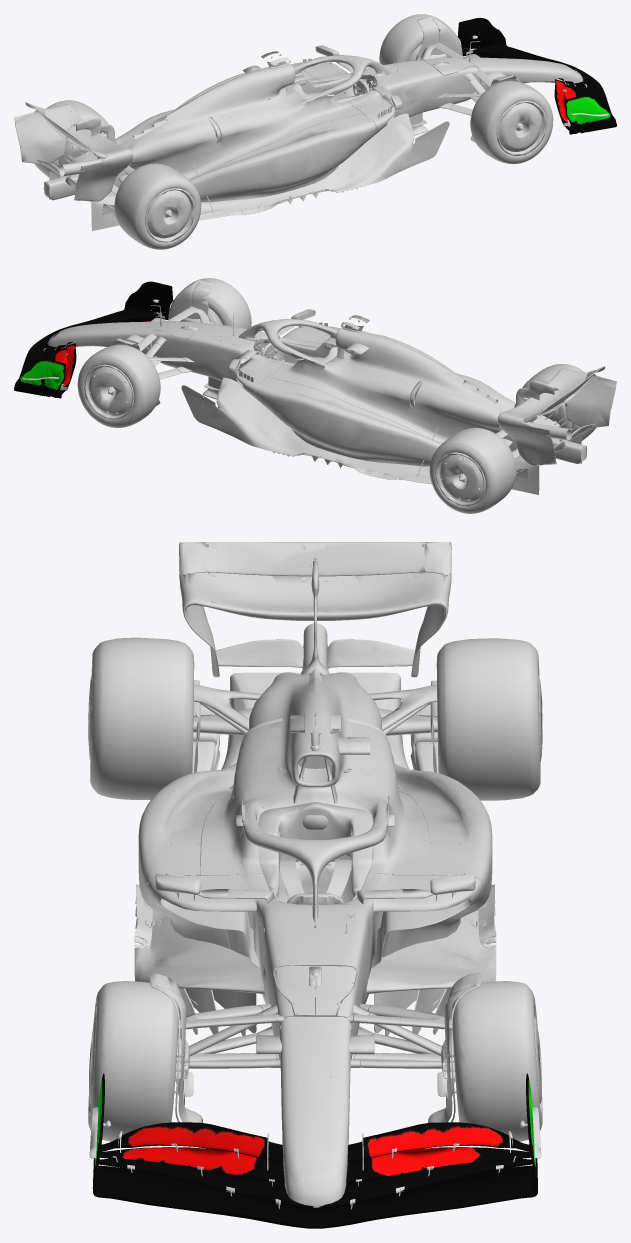
The model's file is car-2022-2025.glb.
3 views of the same model, one above another, from view 1: azimuth 30°, elevation 25°; view 2: azimuth 150°, elevation 25°; view 3: azimuth 270°, elevation 25° (orthographic). The views are drawn at different scales.
Visible parts, largest first — view 1: sidepods|P, wheels|rubber, power-unit|P, cockpit|P, nose|P, rear-wing|P, front-wing|livery, sidepods|carbon, wheels|carbon, nose|carbon2, floor|carbon, wheels|metal (+8 smaller); view 2: sidepods|P, wheels|rubber, power-unit|P, nose|P, cockpit|P, rear-wing|P, front-wing|livery, sidepods|carbon, nose|carbon2, wheels|carbon, floor|carbon, nose|carbon (+7 smaller); view 3: wheels|rubber, front-wing|livery, sidepods|P, cockpit|P, nose|P, rear-wing|P, wheels|carbon, sidepods|carbon, power-unit|P, rear-wing|carbon, nose|carbon, floor|carbon (+7 smaller).
Part boxes in pixels (left/top/right/bottom): sidepods|P: left=175, top=45, right=405, bottom=202; wheels|rubber: left=34, top=14, right=553, bottom=249; power-unit|P: left=115, top=69, right=278, bottom=167; cockpit|P: left=262, top=55, right=403, bottom=126; nose|P: left=132, top=57, right=577, bottom=169; rear-wing|P: left=14, top=102, right=133, bottom=201; front-wing|livery: left=457, top=17, right=616, bottom=134; sidepods|carbon: left=201, top=46, right=428, bottom=206; wheels|carbon: left=49, top=19, right=520, bottom=231; nose|carbon2: left=146, top=100, right=546, bottom=242; floor|carbon: left=51, top=125, right=436, bottom=220; wheels|metal: left=147, top=103, right=541, bottom=238; sidepods|P: left=225, top=309, right=454, bottom=466; wheels|rubber: left=77, top=278, right=595, bottom=513; power-unit|P: left=352, top=333, right=515, bottom=431; nose|P: left=54, top=321, right=498, bottom=433; cockpit|P: left=226, top=319, right=368, bottom=390; rear-wing|P: left=497, top=366, right=616, bottom=465; front-wing|livery: left=14, top=281, right=173, bottom=398; sidepods|carbon: left=202, top=310, right=429, bottom=470; nose|carbon2: left=84, top=364, right=484, bottom=506; wheels|carbon: left=110, top=283, right=581, bottom=494; floor|carbon: left=194, top=389, right=581, bottom=483; nose|carbon: left=117, top=279, right=501, bottom=429; wheels|rubber: left=88, top=637, right=542, bottom=1141; front-wing|livery: left=92, top=1073, right=537, bottom=1228; sidepods|P: left=138, top=733, right=492, bottom=981; cockpit|P: left=219, top=729, right=411, bottom=931; nose|P: left=263, top=853, right=367, bottom=1180; rear-wing|P: left=179, top=542, right=451, bottom=647; wheels|carbon: left=158, top=659, right=472, bottom=1122; sidepods|carbon: left=135, top=863, right=495, bottom=1035; power-unit|P: left=242, top=672, right=388, bottom=785; rear-wing|carbon: left=203, top=560, right=427, bottom=709; nose|carbon: left=150, top=855, right=481, bottom=1068; floor|carbon: left=134, top=712, right=496, bottom=1035.
Size of the model in its own units: 5.55 by 1.14 by 2.
2 materials, 1 textured.
